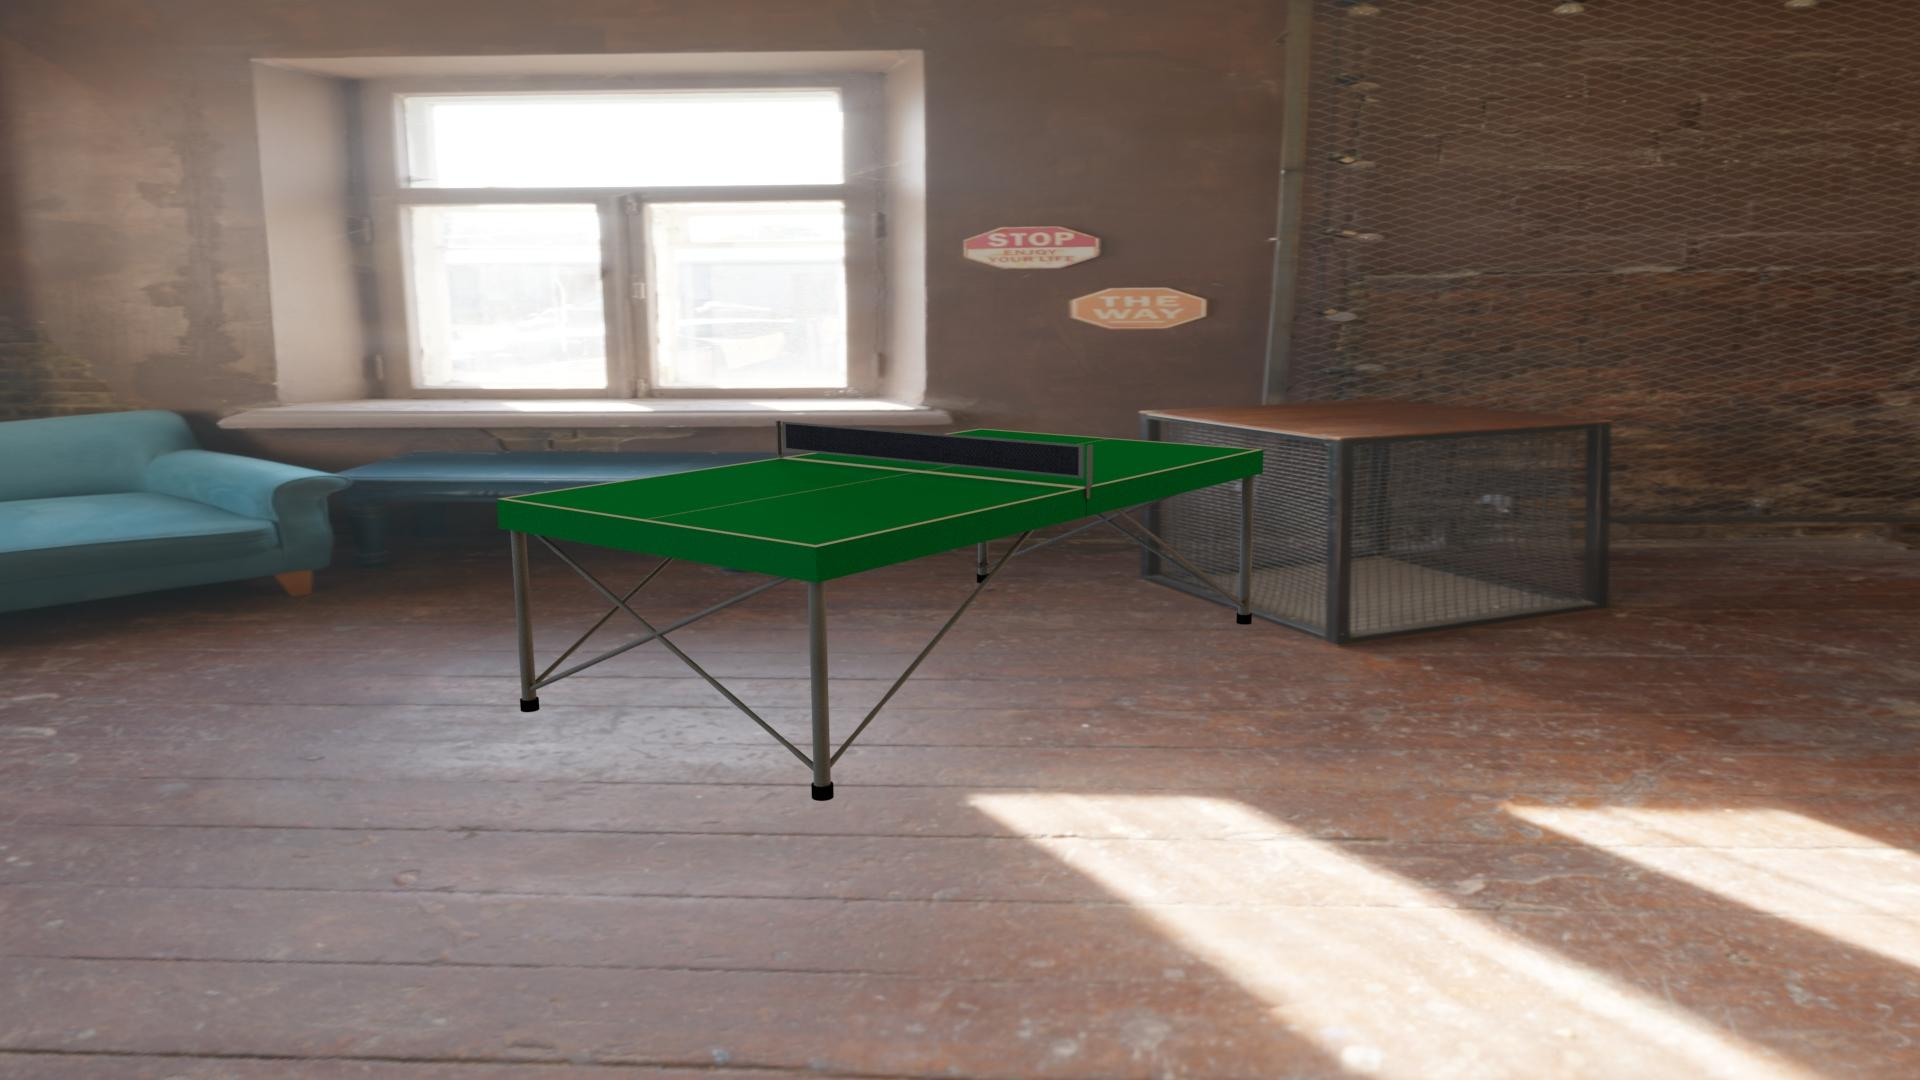table: (505, 430, 1257, 545)
